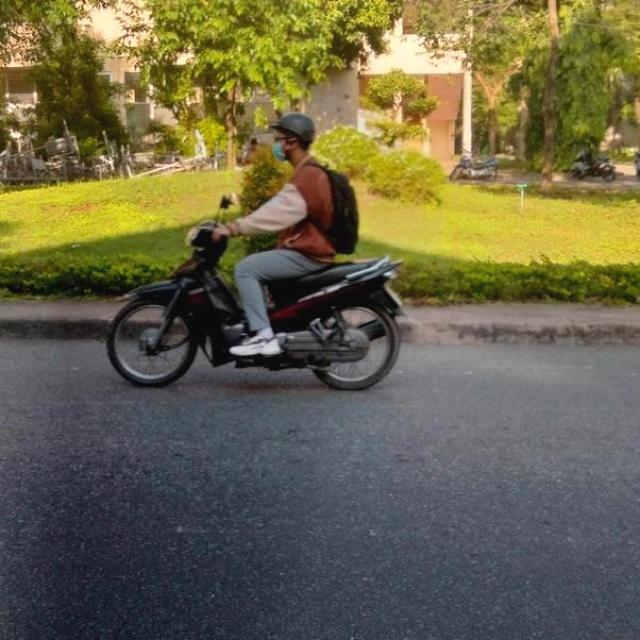Helmet: (268, 112, 315, 170)
